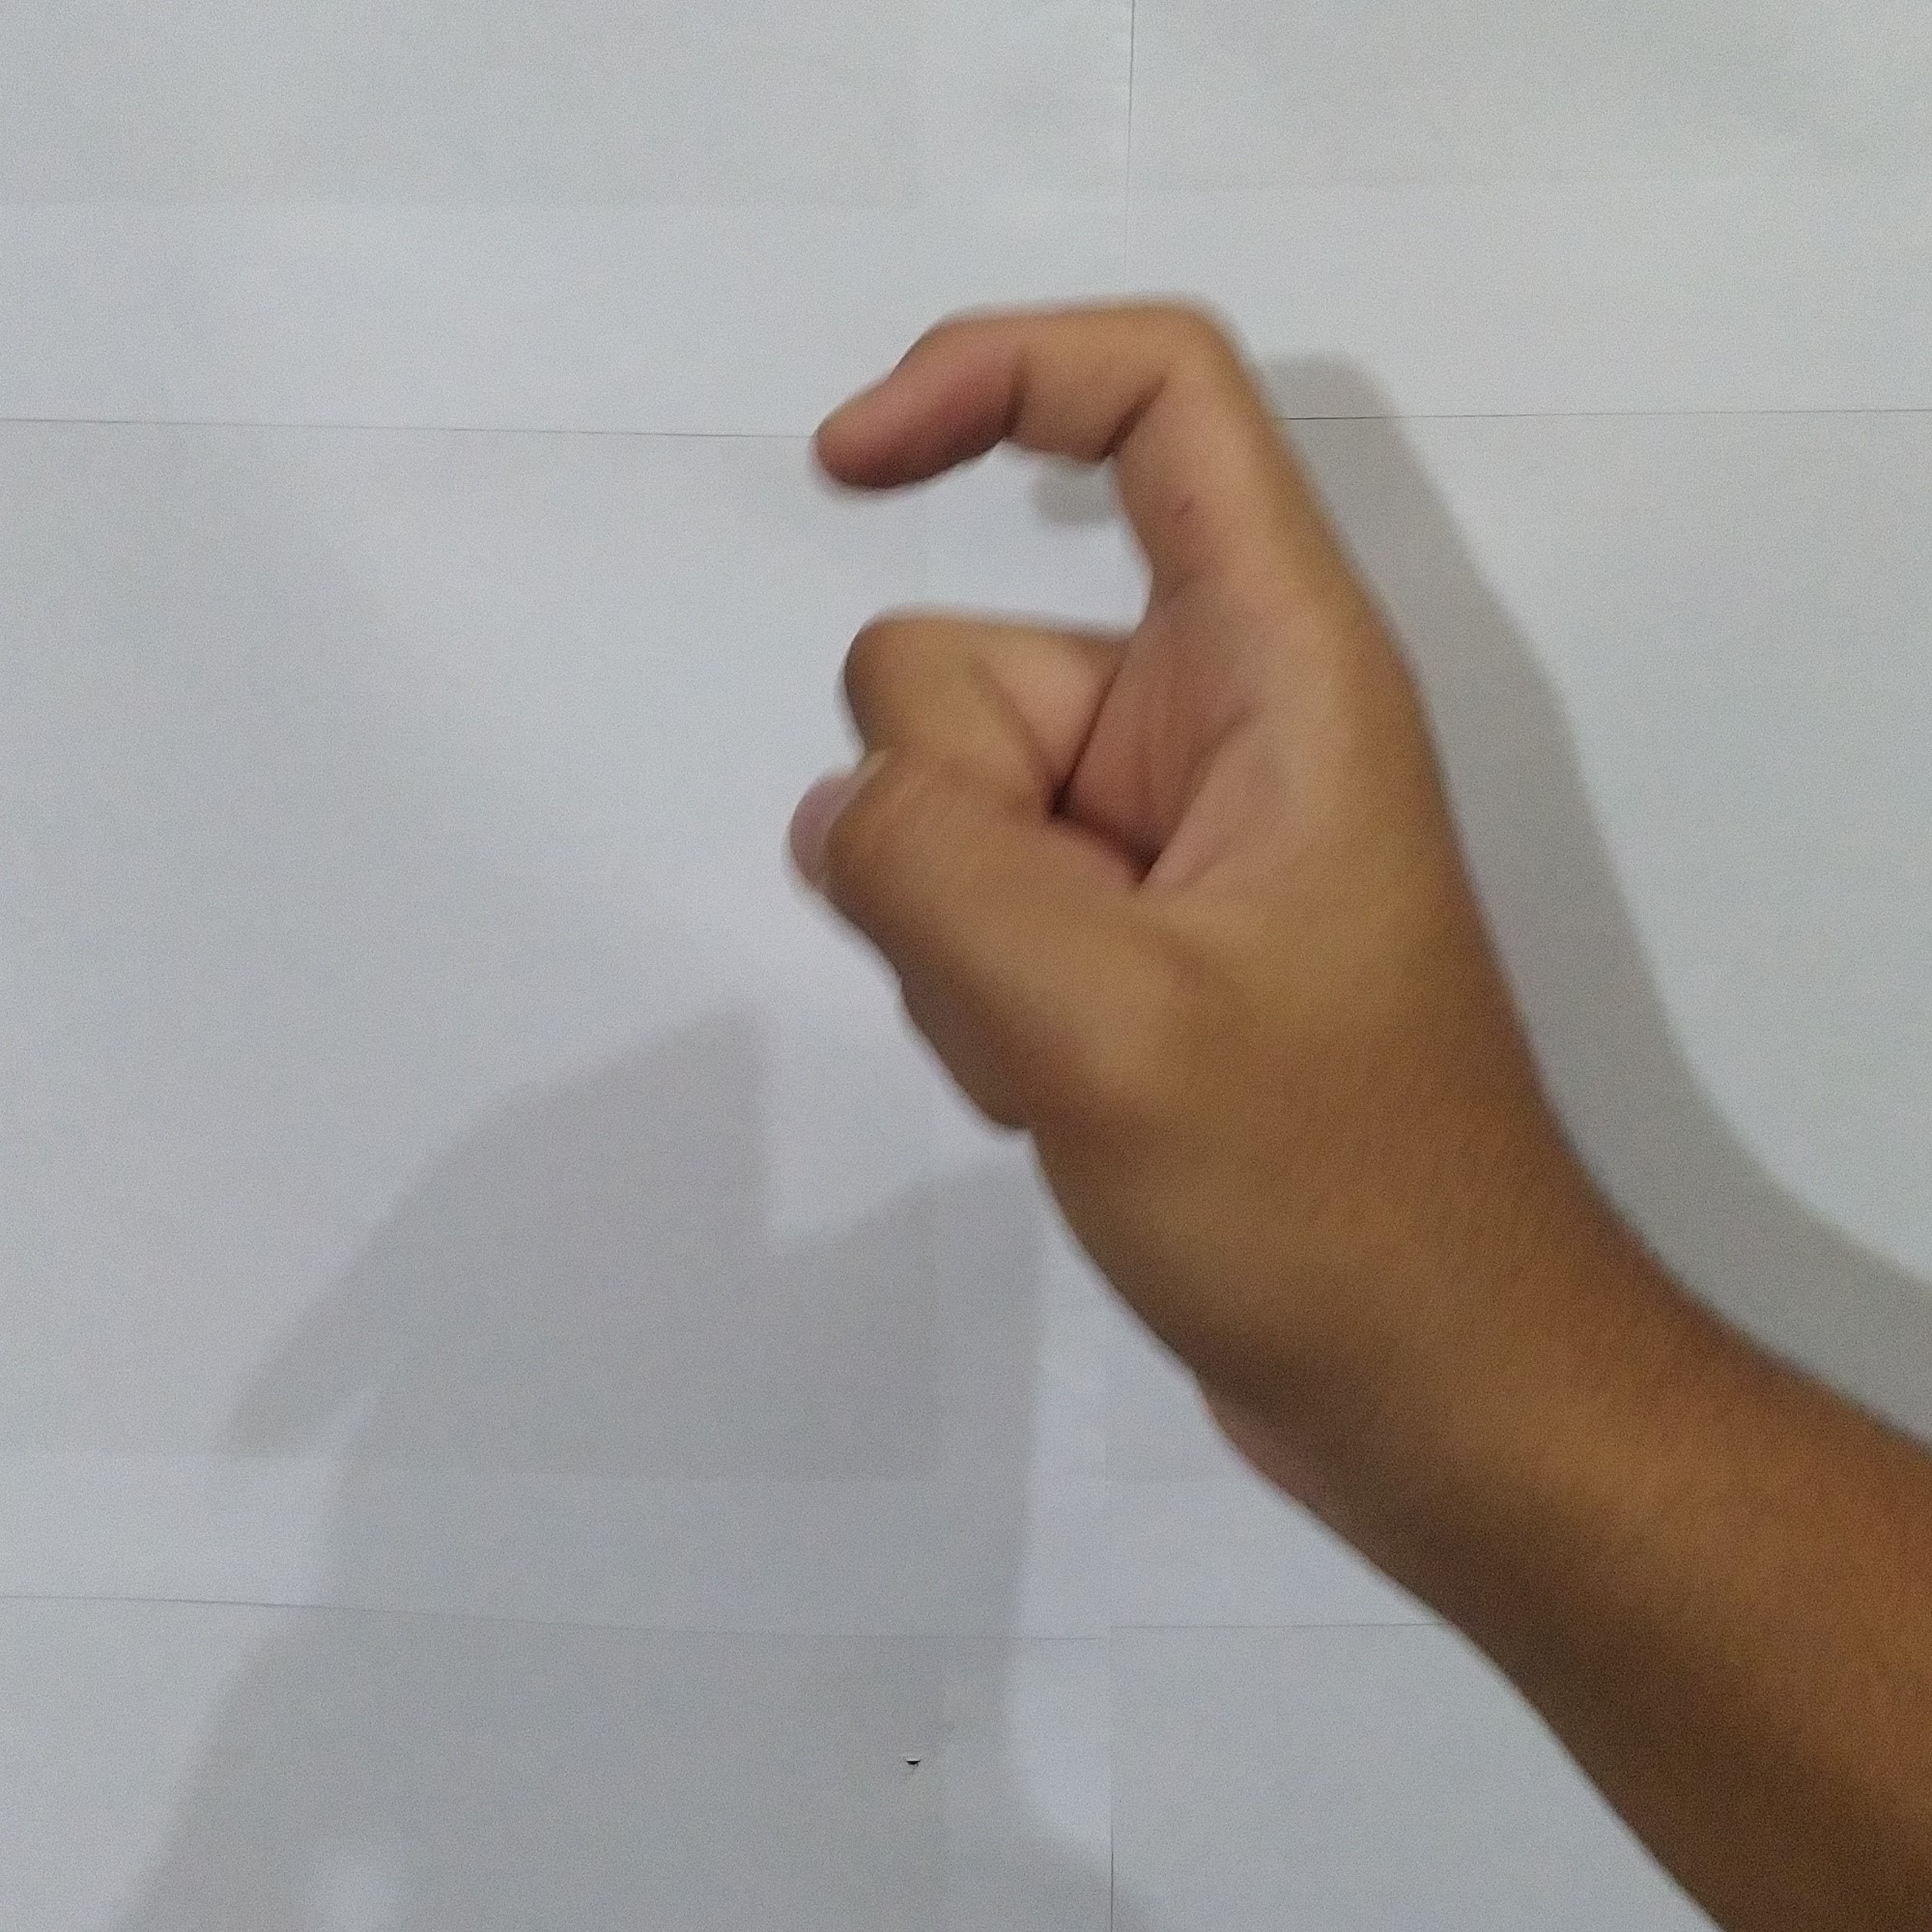X: (748, 264, 1545, 1410)
